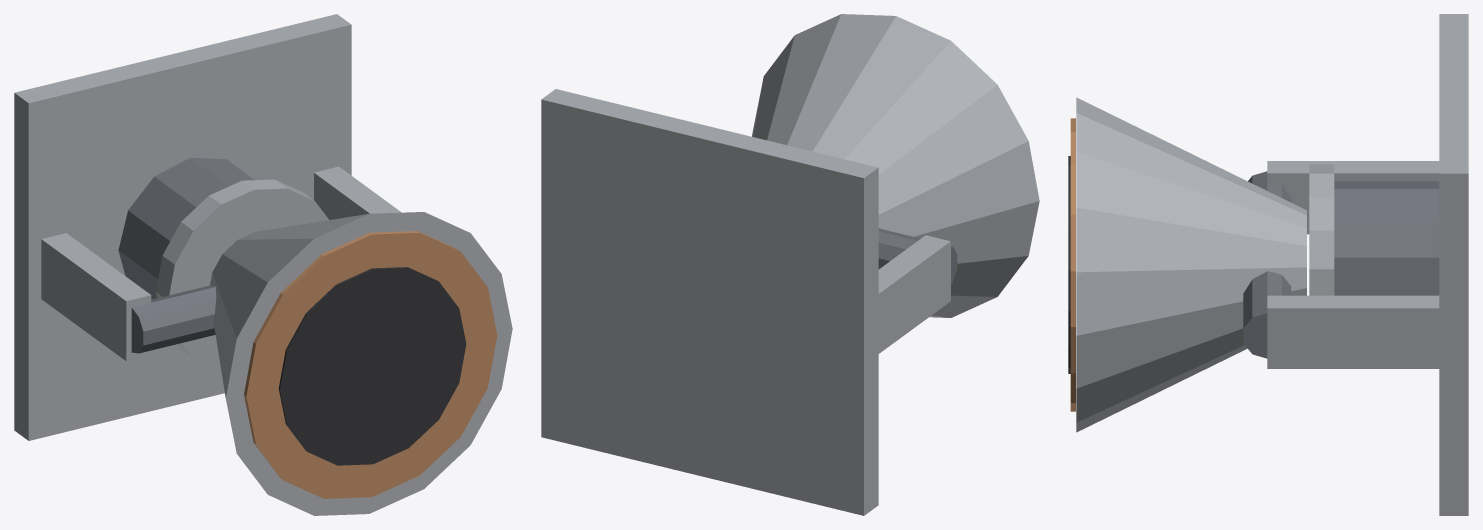
File: shell_gimbal.glb
The picture shows the model from 3 angles, left to right: view 1: azimuth 30°, elevation 25°; view 2: azimuth 150°, elevation 25°; view 3: azimuth 270°, elevation 25°; orthographic projection.
Bounding box in the file's own units: 0.9 × 0.9 × 0.954.
